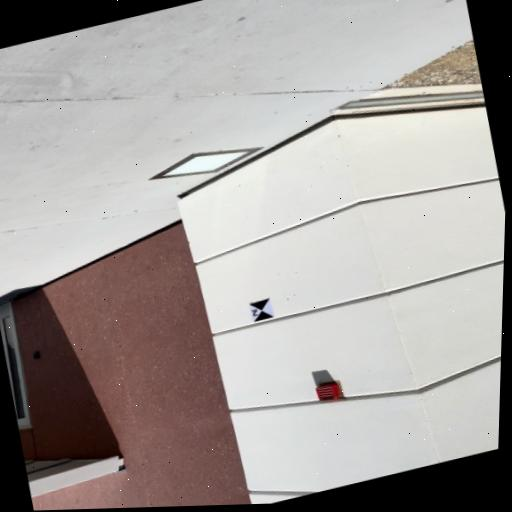target2: (248, 297, 274, 322)
